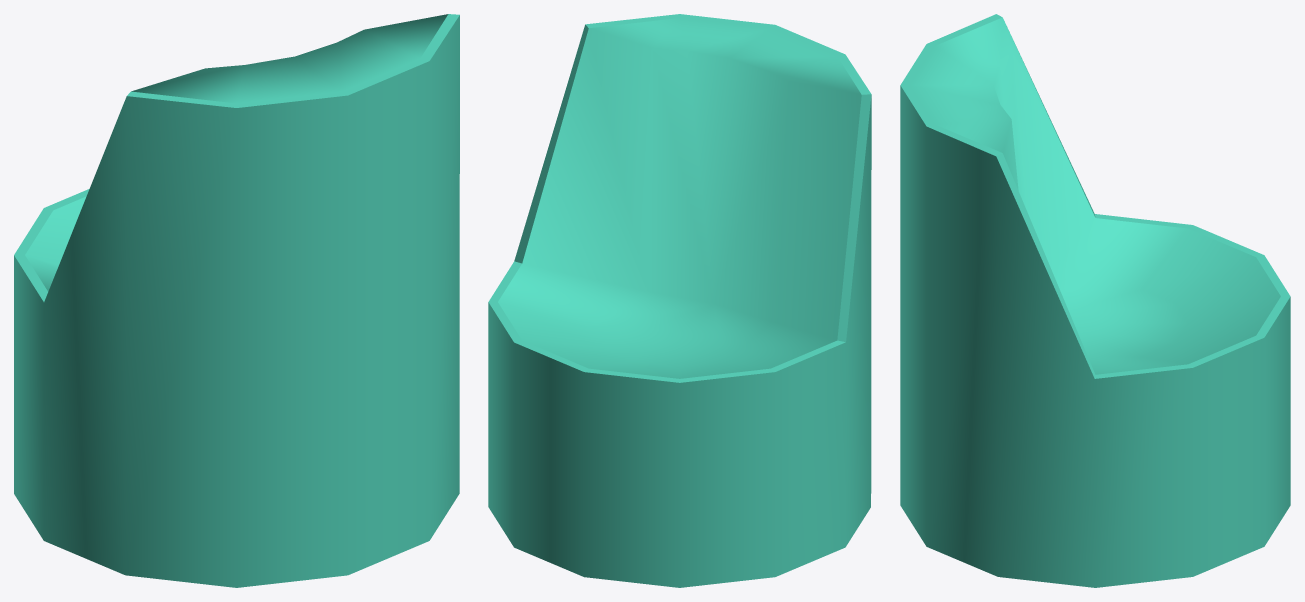
The model's file is ThorChair.FBX.
3 views of the same model, side by side, from view 1: azimuth 30°, elevation 25°; view 2: azimuth 150°, elevation 25°; view 3: azimuth 270°, elevation 25° (orthographic). The views are drawn at different scales.
Parts seen in each view (by area): view 1: Chaise; view 2: Chaise; view 3: Chaise.
Part boxes in pixels (x1,y1,x2,y2): Chaise: (14,14,459,587); Chaise: (488,14,871,587); Chaise: (900,14,1290,587).
Size of the model in its own units: 65.77 by 65.71 by 78.09.
